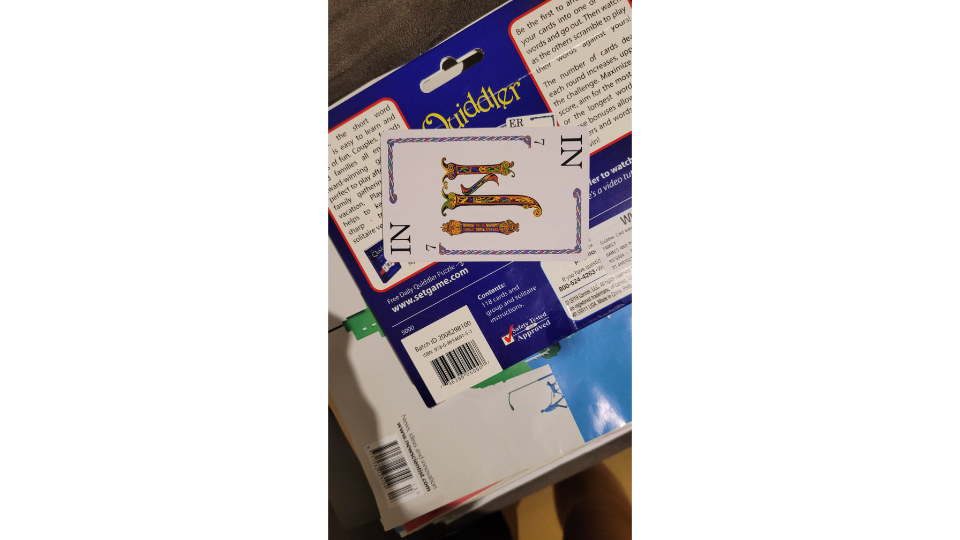IN: (377, 121, 594, 263)
